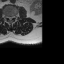CCS_normal: (9, 14, 11, 22)
LFS_normal: (13, 13, 15, 19)
LLS_stenosis: (11, 14, 13, 21)
RFS_normal: (5, 13, 7, 19)
RLS_stenosis: (7, 14, 9, 20)
